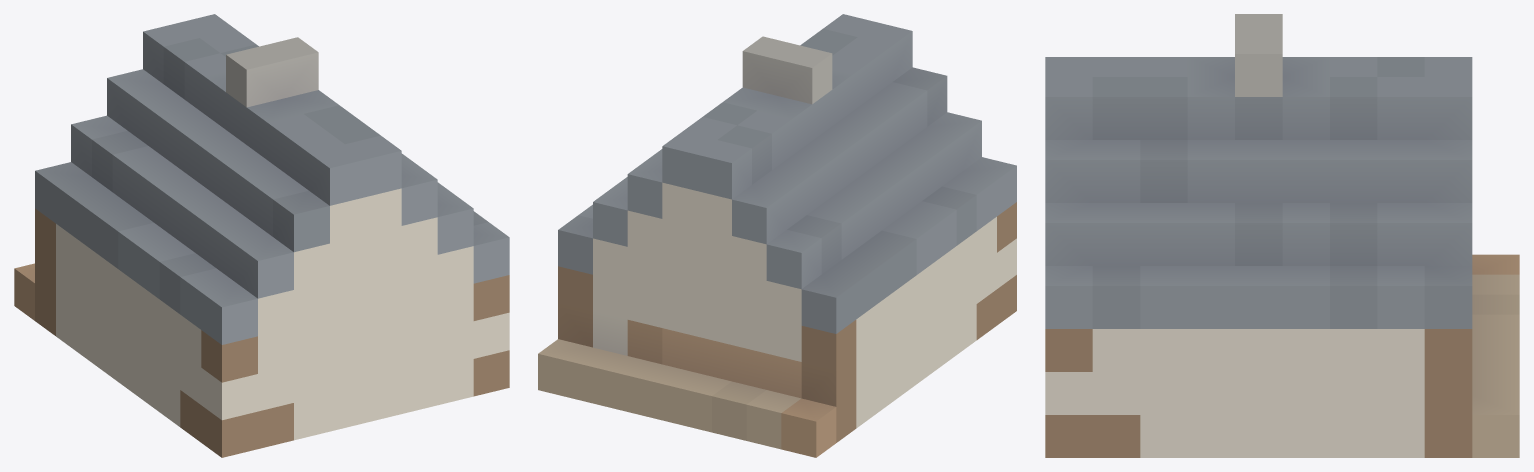
The model's file is pastry_kitchen.lite.glb.
3 views of the same model, side by side, from view 1: azimuth 30°, elevation 25°; view 2: azimuth 150°, elevation 25°; view 3: azimuth 270°, elevation 25° (orthographic). The views are drawn at different scales.
Visible parts, largest first — view 1: pastry_kitchen; view 2: pastry_kitchen; view 3: pastry_kitchen.
Part boxes in pixels (x1=…): pastry_kitchen: x1=14, y1=14, x2=509, y2=457; pastry_kitchen: x1=538, y1=14, x2=1016, y2=457; pastry_kitchen: x1=1045, y1=14, x2=1519, y2=457.
Size of the model in its own units: 4 by 4 by 5.
